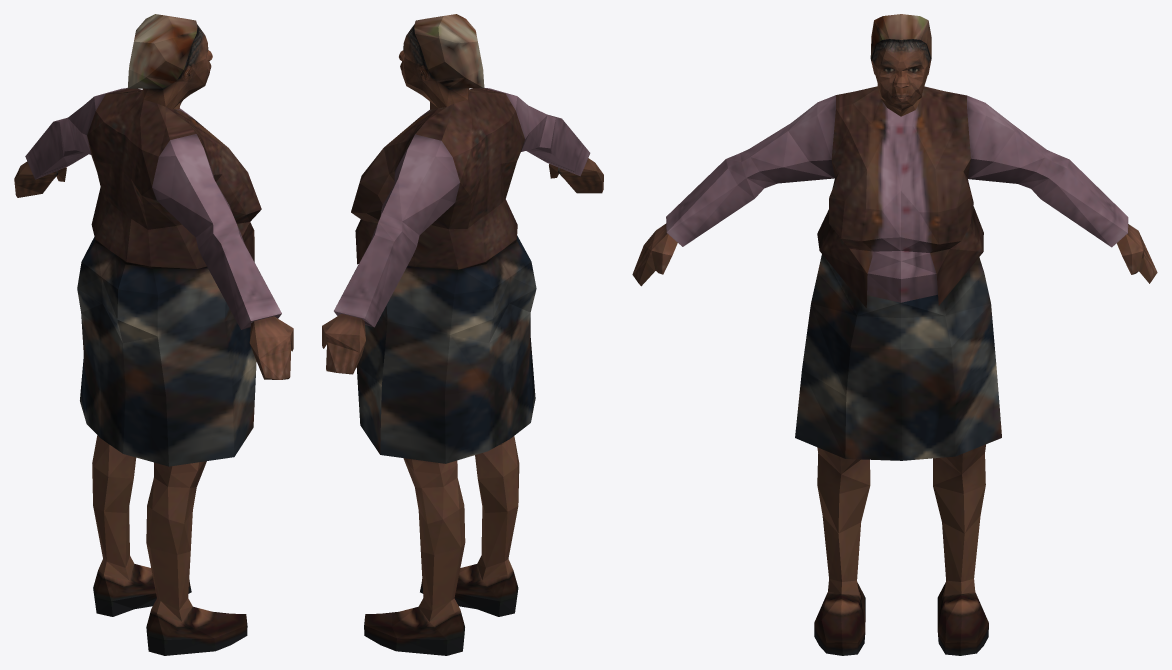
The model's file is sbfost.obj.
3 views of the same model, side by side, from view 1: azimuth 30°, elevation 25°; view 2: azimuth 150°, elevation 25°; view 3: azimuth 270°, elevation 25° (orthographic). The views are drawn at different scales.
Parts seen in each view (by area): view 1: _Pelvis; view 2: _Pelvis; view 3: _Pelvis.
Part boxes in pixels (x1,y1,x2,y2): _Pelvis: (14, 14, 293, 655); _Pelvis: (322, 14, 603, 655); _Pelvis: (632, 14, 1157, 655).
Bounding box in the file's own units: 0.4228 × 1.67 × 1.28.
Materials: 1 (1 with a texture image).
